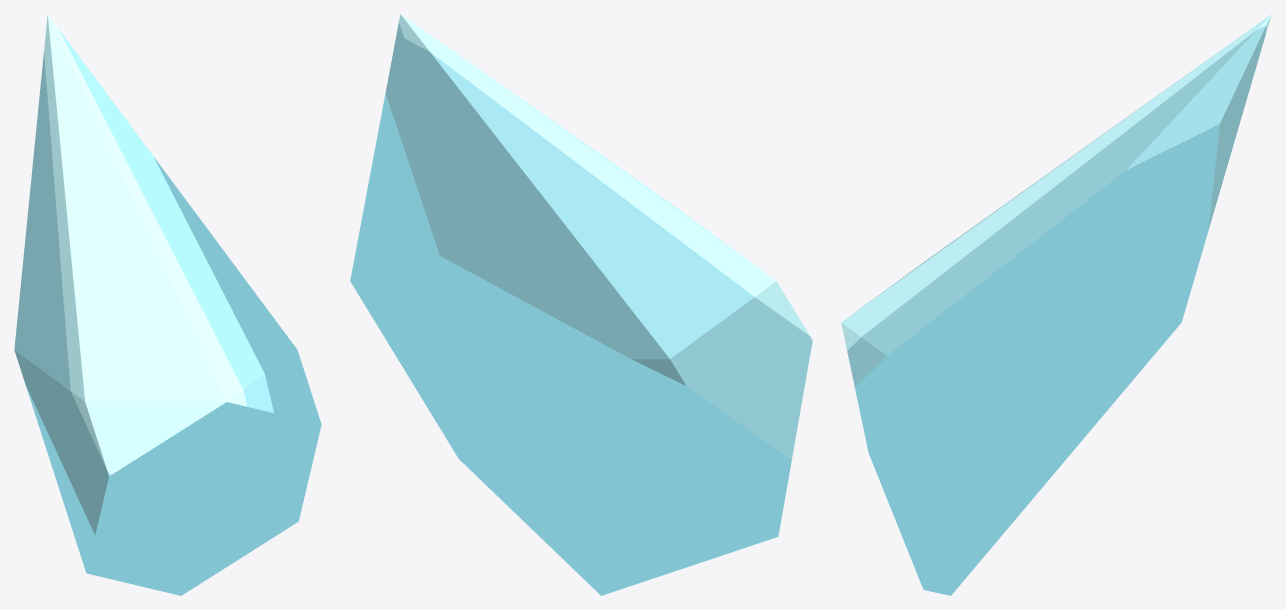
Rendered from fruit_crystal_t.glb.
3 renders of one model, left to right at view 1: azimuth 30°, elevation 25°; view 2: azimuth 150°, elevation 25°; view 3: azimuth 270°, elevation 25°, orthographic. The views are drawn at different scales.
Parts seen in each view (by area): view 1: fruit_crystal_t; view 2: fruit_crystal_t; view 3: fruit_crystal_t.
Boxes of the visible parts, <box> form: fruit_crystal_t: <box>14,14,321,595</box>; fruit_crystal_t: <box>350,14,812,595</box>; fruit_crystal_t: <box>841,14,1271,595</box>.
Bounding box in the file's own units: 5.37 × 11.7 × 7.84.
